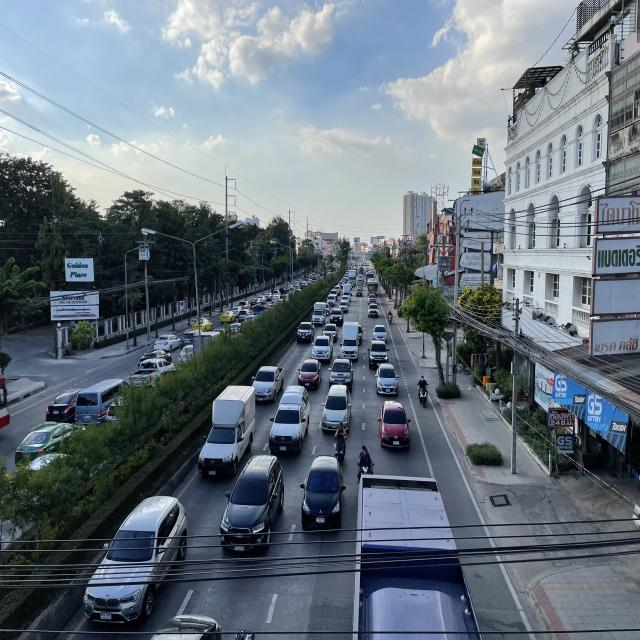bike: (356, 442, 374, 489), (334, 420, 347, 468), (417, 370, 430, 408)
bus: (354, 471, 482, 640)
car: (82, 495, 188, 626), (219, 454, 285, 554), (300, 454, 346, 534), (378, 399, 412, 451), (320, 385, 352, 433), (251, 364, 285, 402), (376, 362, 400, 396), (297, 358, 322, 389), (329, 358, 353, 390)
truck: (197, 385, 256, 481), (268, 385, 311, 457), (340, 321, 360, 362), (311, 332, 333, 363), (311, 302, 326, 325)
